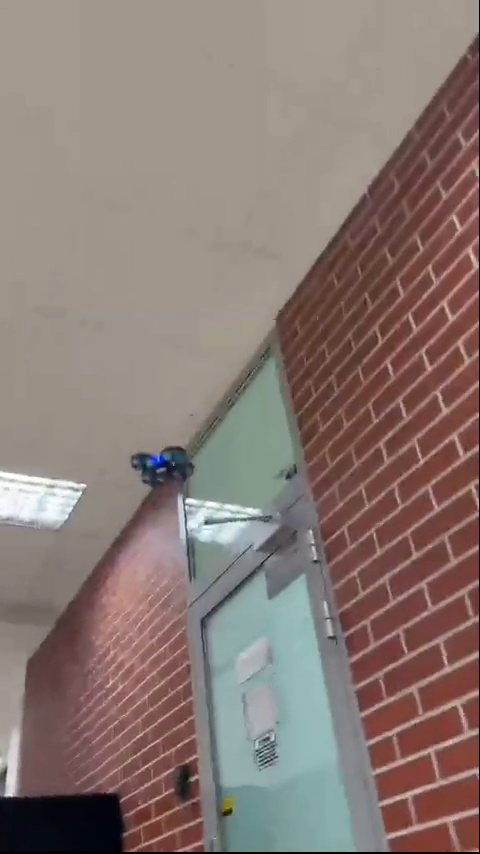drone: (131, 445, 195, 490)
